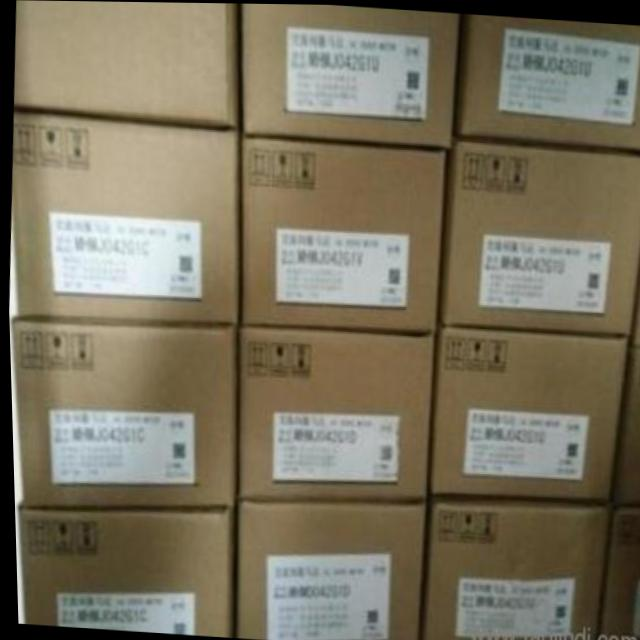box: (10, 110, 238, 324), (7, 315, 236, 505), (436, 138, 640, 336), (241, 137, 445, 333), (426, 324, 628, 499), (236, 324, 434, 498), (241, 3, 462, 148), (14, 0, 238, 127), (15, 507, 231, 636), (230, 498, 423, 640), (422, 496, 608, 640), (458, 14, 640, 147), (592, 505, 640, 640), (612, 346, 640, 503), (629, 256, 640, 347)
